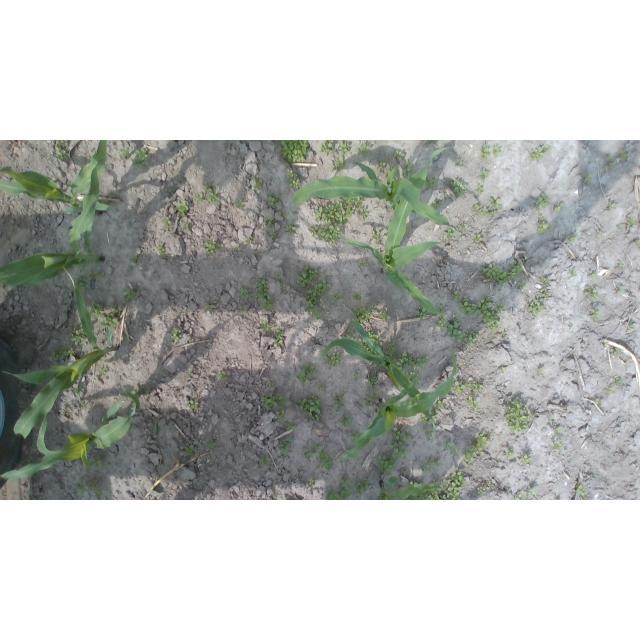Maize: (0, 266, 120, 440), (346, 147, 452, 320), (0, 139, 104, 288), (1, 388, 140, 481), (338, 354, 459, 460), (292, 164, 460, 237), (324, 317, 435, 421), (0, 152, 112, 216), (374, 476, 462, 500)
Weeds: (460, 295, 504, 333), (481, 260, 526, 285), (503, 398, 533, 435), (315, 199, 354, 225), (447, 318, 480, 346), (464, 432, 492, 464), (308, 220, 342, 244), (304, 444, 334, 471), (441, 471, 468, 500), (276, 141, 310, 164), (261, 394, 288, 421), (391, 426, 412, 460), (306, 279, 333, 305), (327, 476, 354, 501), (253, 278, 273, 310), (396, 352, 430, 370), (298, 395, 321, 421), (73, 479, 102, 497), (297, 266, 319, 288), (296, 364, 316, 388), (451, 381, 484, 395), (67, 323, 87, 346), (130, 147, 150, 170), (203, 180, 222, 204), (49, 345, 75, 362), (376, 455, 397, 474), (433, 304, 447, 332), (408, 489, 440, 500), (122, 284, 140, 303), (322, 349, 341, 367), (532, 145, 552, 162), (472, 204, 496, 218), (537, 213, 552, 235), (355, 307, 374, 324), (54, 141, 71, 160), (354, 197, 368, 219), (451, 178, 468, 196), (287, 168, 301, 189), (584, 285, 601, 302), (528, 299, 545, 316), (308, 301, 323, 320), (515, 487, 536, 500), (359, 338, 376, 354), (320, 140, 336, 157), (369, 331, 384, 349), (278, 438, 293, 456), (421, 459, 440, 473), (403, 161, 417, 180), (88, 300, 104, 316), (74, 275, 91, 290), (536, 193, 551, 210), (341, 323, 355, 341), (357, 477, 371, 495), (205, 239, 220, 255), (364, 393, 380, 408), (266, 191, 281, 207), (174, 200, 188, 217), (477, 482, 496, 494), (88, 456, 105, 469), (466, 395, 479, 412), (435, 396, 448, 412), (424, 174, 438, 188), (329, 157, 343, 171), (357, 140, 369, 156), (376, 161, 389, 175), (101, 317, 119, 327), (339, 414, 351, 429), (416, 306, 427, 322), (276, 327, 285, 346), (205, 301, 218, 314), (406, 372, 420, 384), (333, 396, 345, 410), (489, 198, 503, 210), (604, 156, 616, 170), (520, 454, 533, 466), (186, 400, 199, 412), (429, 409, 439, 424), (340, 141, 350, 156), (480, 144, 490, 159), (372, 230, 384, 242), (252, 178, 264, 190), (285, 221, 296, 234), (306, 476, 319, 487), (171, 329, 181, 343), (387, 343, 397, 357), (118, 148, 132, 158), (552, 440, 564, 451), (260, 321, 272, 332), (617, 149, 628, 161), (332, 292, 342, 305), (577, 486, 588, 497), (504, 448, 515, 459), (153, 418, 160, 435), (89, 271, 102, 280), (109, 308, 122, 317), (377, 311, 390, 320), (264, 217, 274, 228), (241, 289, 252, 299), (627, 218, 638, 228), (445, 228, 456, 238), (479, 170, 489, 181), (161, 217, 171, 228), (420, 412, 429, 424), (584, 173, 593, 185), (237, 198, 246, 210), (424, 428, 432, 441), (260, 456, 270, 466), (131, 253, 141, 263), (157, 244, 166, 255), (565, 235, 576, 244), (591, 309, 600, 320), (432, 199, 444, 207), (154, 486, 166, 494), (445, 441, 454, 451), (393, 150, 403, 159), (518, 280, 527, 290), (554, 203, 563, 213), (185, 445, 193, 456), (540, 276, 551, 284), (208, 440, 217, 449), (368, 376, 377, 385), (316, 384, 325, 393), (556, 428, 565, 437), (287, 420, 295, 430), (615, 376, 623, 386), (595, 398, 603, 408), (492, 146, 500, 156), (596, 229, 604, 238), (100, 368, 108, 377), (217, 372, 226, 380), (353, 293, 362, 301), (606, 386, 615, 394), (474, 234, 483, 242), (540, 290, 549, 298), (475, 187, 484, 195), (457, 222, 467, 229), (196, 193, 203, 203), (61, 403, 68, 413), (268, 380, 276, 388), (608, 203, 616, 211), (590, 271, 598, 279), (341, 388, 348, 397), (618, 260, 625, 269), (100, 199, 110, 205), (187, 368, 194, 376), (453, 292, 460, 300), (408, 479, 417, 485), (353, 373, 360, 380), (614, 349, 621, 356), (280, 211, 288, 217), (247, 236, 253, 244), (280, 284, 286, 292), (275, 272, 281, 280), (616, 288, 624, 294), (232, 247, 241, 252), (538, 371, 545, 377), (360, 260, 365, 268), (272, 494, 280, 499), (571, 270, 577, 276), (183, 222, 189, 228), (453, 452, 460, 457), (456, 160, 463, 165), (424, 140, 432, 144), (132, 388, 137, 394), (628, 324, 634, 329), (500, 332, 505, 337), (500, 368, 505, 373), (389, 208, 395, 212), (272, 231, 276, 237), (636, 239, 640, 245), (73, 388, 77, 393), (604, 342, 608, 347), (146, 388, 150, 392), (446, 195, 450, 199)
